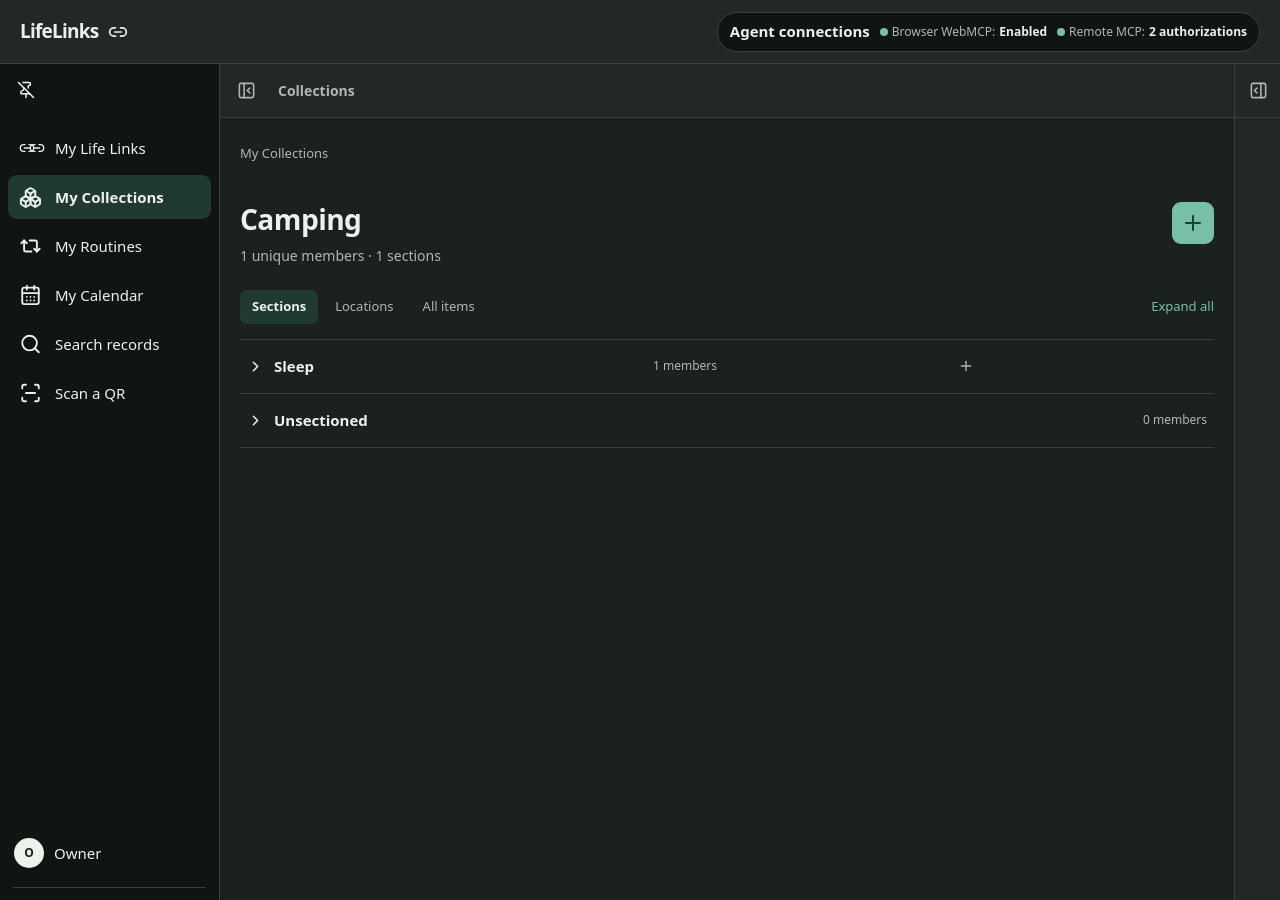
Test: Collection owner workspace › shows Browser WebMCP and Remote MCP as separate topbar states and refreshes before opening their dialog
The width and height of the screenshot is (1280, 900).
Click the button with aria-label "Agent connections. Browser WebMCP: Enabled. Remote MCP: 2 au". click: (988, 32)
box: 717,12 -> 1260,52
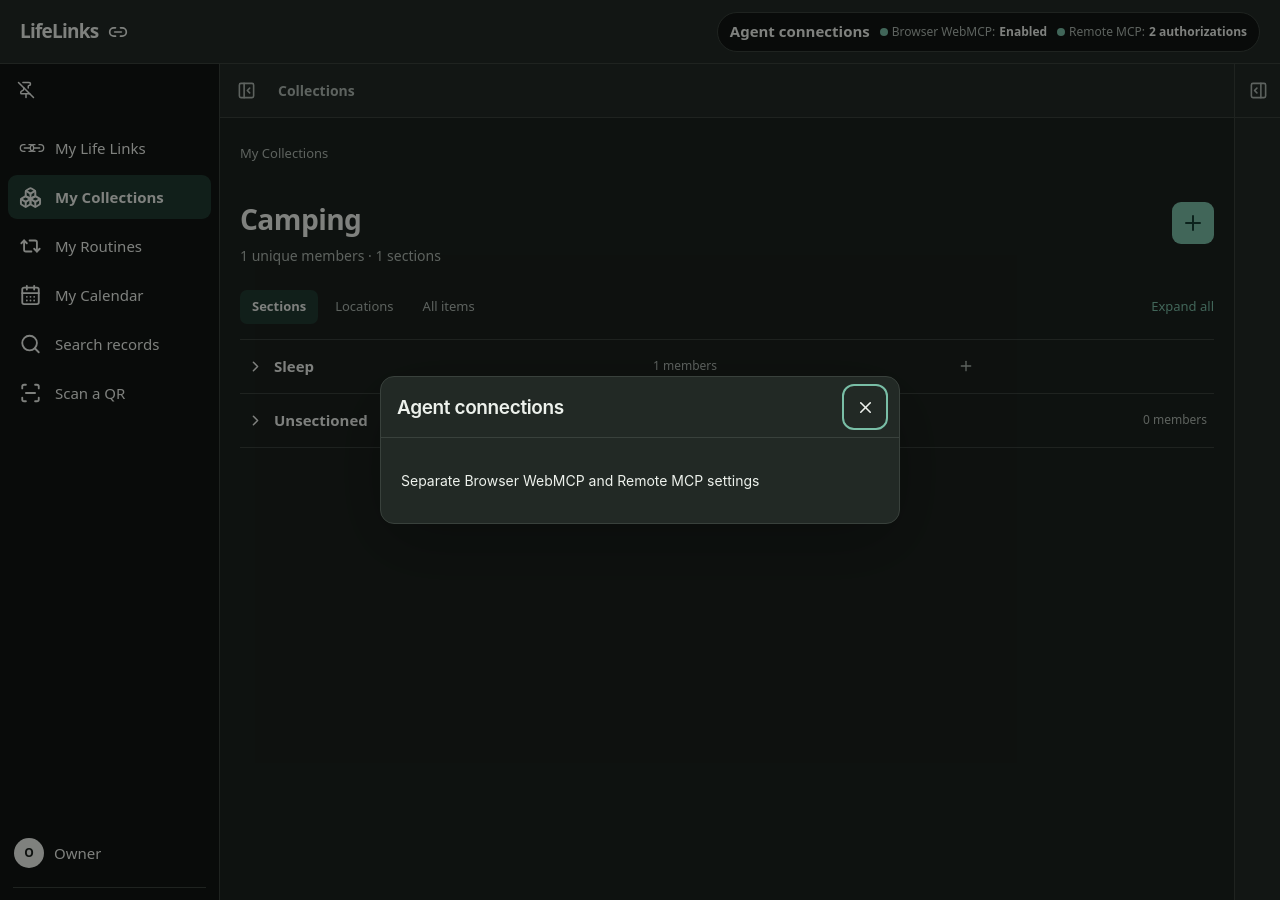
Now the dialog shows "Agent connections", box 397,396 -> 564,418
Now the dialog shows "Separate Browser WebMCP and Remote MCP settings", box 401,472 -> 759,489
